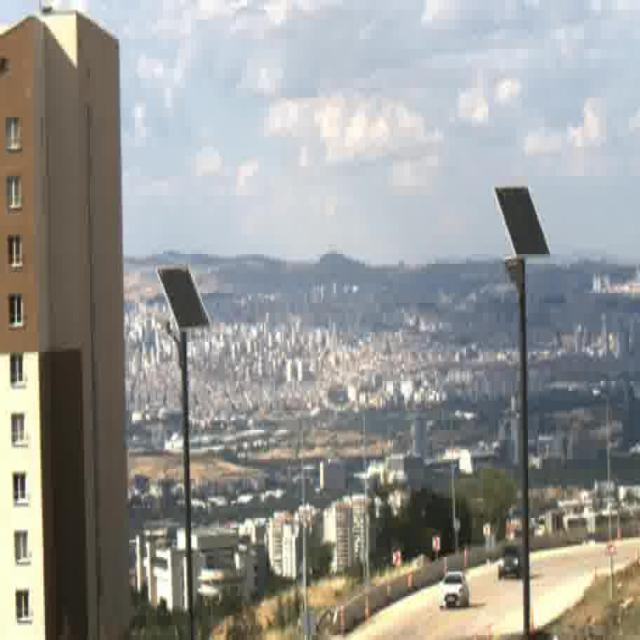Car: (498, 544, 526, 578), (440, 574, 467, 608)
